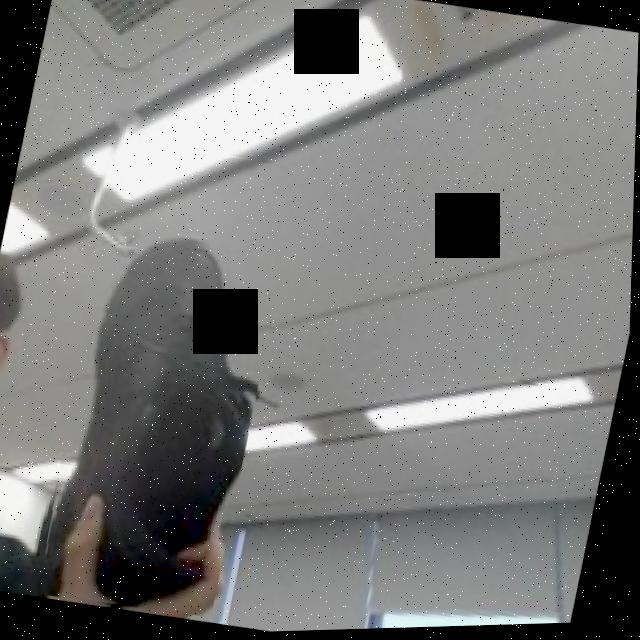shoe: (30, 221, 287, 625)
